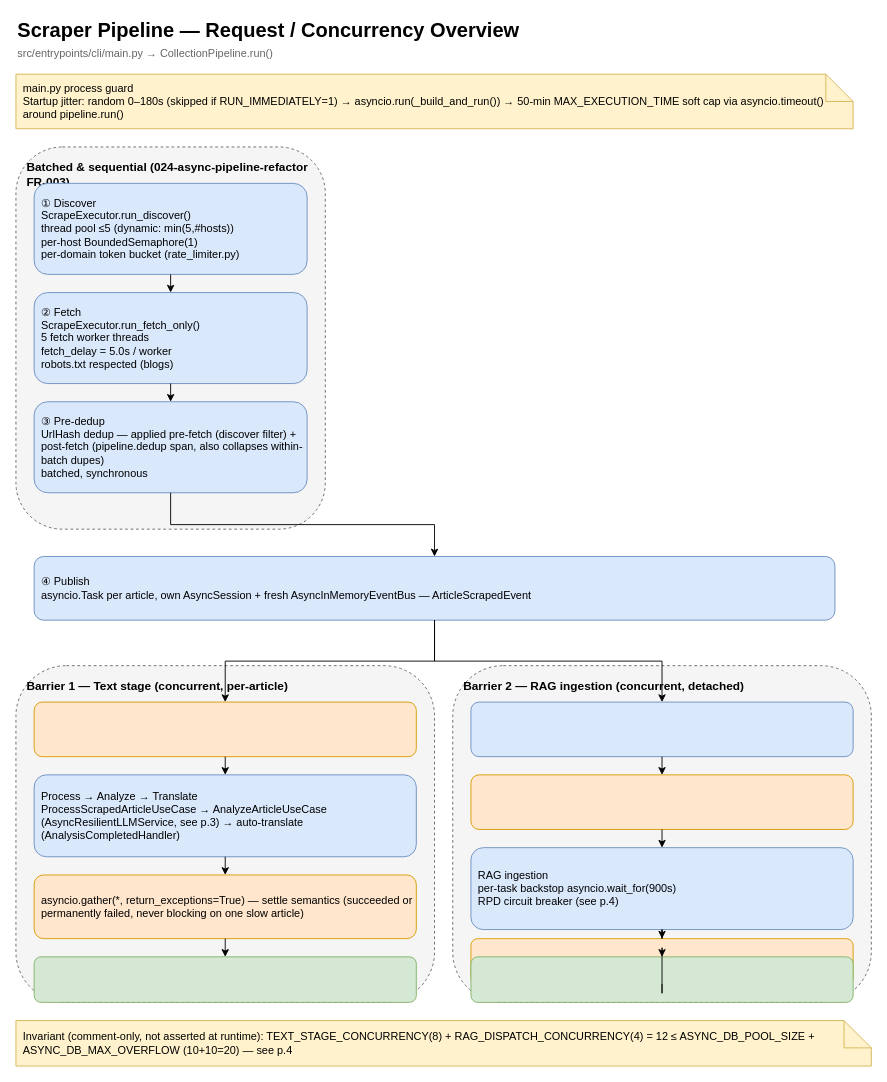
This 887x1082 diagram has some shape labels left out. The shapes that lost their labels are listed below. From the top down, each one's centre as x and y in pixels, then its label:
(x=224, y=729): _text_stage_semaphore BoundedSemaphore(TEXT_STAGE_CONCURRENCY=8)
(x=661, y=729): _dispatch_rag(): asyncio.create_task(...) — detached, never awaited inline
(x=661, y=801): _rag_dispatch_semaphore BoundedSemaphore(RAG_DISPATCH_CONCURRENCY=4)
(x=224, y=979): TextPipelineCompletedEvent → search-index rebuild + cache invalidation/warmup
(x=661, y=979): PipelineCompletedEvent → Telegram notify + OTel metrics
